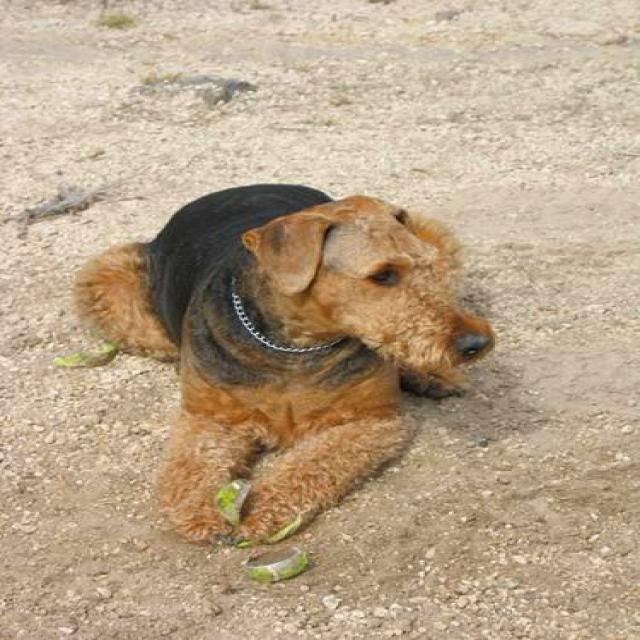airedale: (78, 183, 494, 544)
